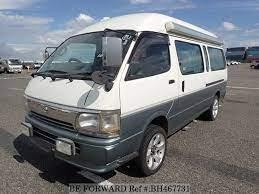van: (23, 15, 229, 175)
